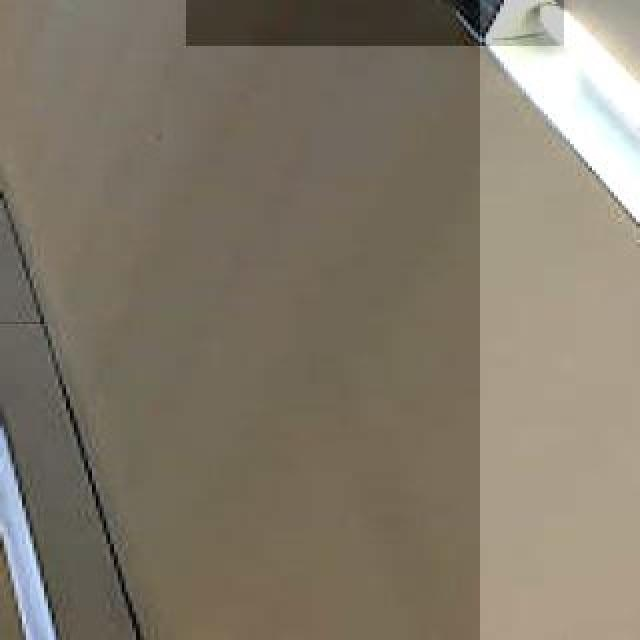fluorescent tube: (478, 0, 640, 640), (188, 0, 560, 38)
